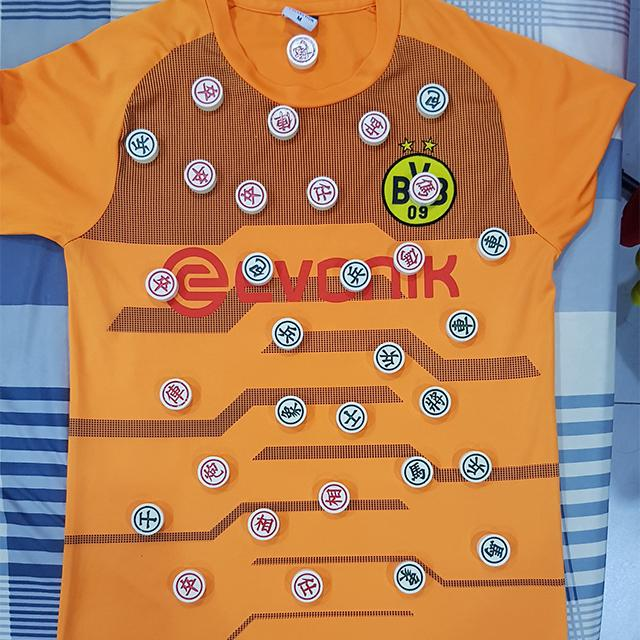black-advisor: (332, 396, 374, 438), (127, 500, 168, 538)
black-cannon: (410, 70, 454, 122), (237, 244, 284, 288)
black-chariot: (436, 298, 484, 350), (473, 221, 511, 264)
black-elephant: (266, 390, 308, 427), (386, 558, 428, 594)
black-general: (416, 384, 453, 420)
black-horse: (473, 518, 516, 572), (398, 448, 437, 492)
black-soldier: (118, 121, 164, 167), (456, 441, 499, 488), (368, 332, 408, 379), (336, 252, 376, 298), (265, 309, 309, 349)
red-advisor: (299, 168, 345, 214), (285, 560, 329, 607)
red-cannon: (272, 36, 322, 72), (192, 451, 232, 490)
red-chariot: (258, 96, 304, 144), (154, 370, 196, 414)
red-elephant: (314, 469, 358, 520), (239, 501, 284, 541)
red-general: (354, 106, 394, 151)
red-horse: (406, 168, 446, 208), (390, 236, 428, 278)
red-soldier: (138, 259, 184, 309), (163, 562, 213, 604), (176, 151, 220, 196), (188, 71, 226, 113), (234, 174, 270, 217)
